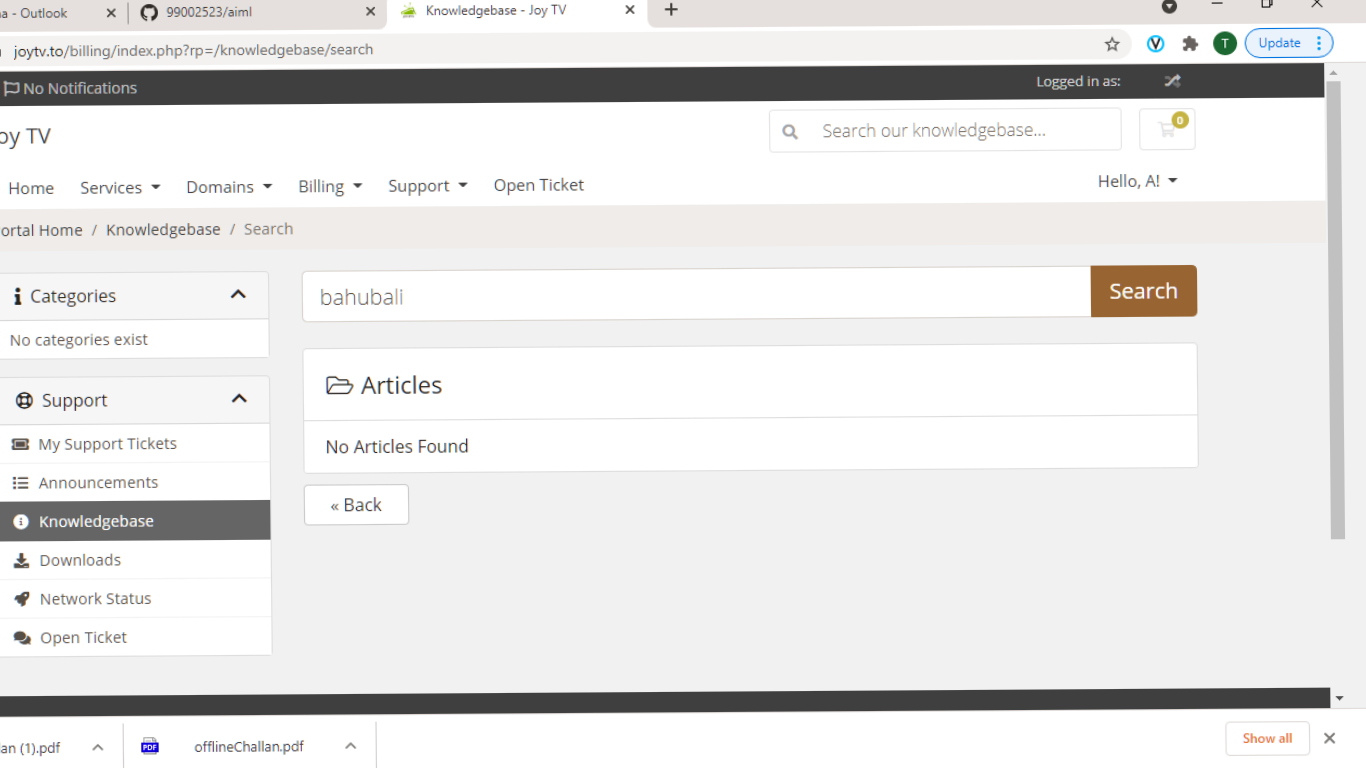backbutton: (300, 483, 410, 528)
noresultsfound: (308, 417, 1192, 465)
profileicon: (1088, 168, 1219, 196)
searchicon: (775, 115, 804, 148)
searchtextbox: (756, 104, 1126, 156)
